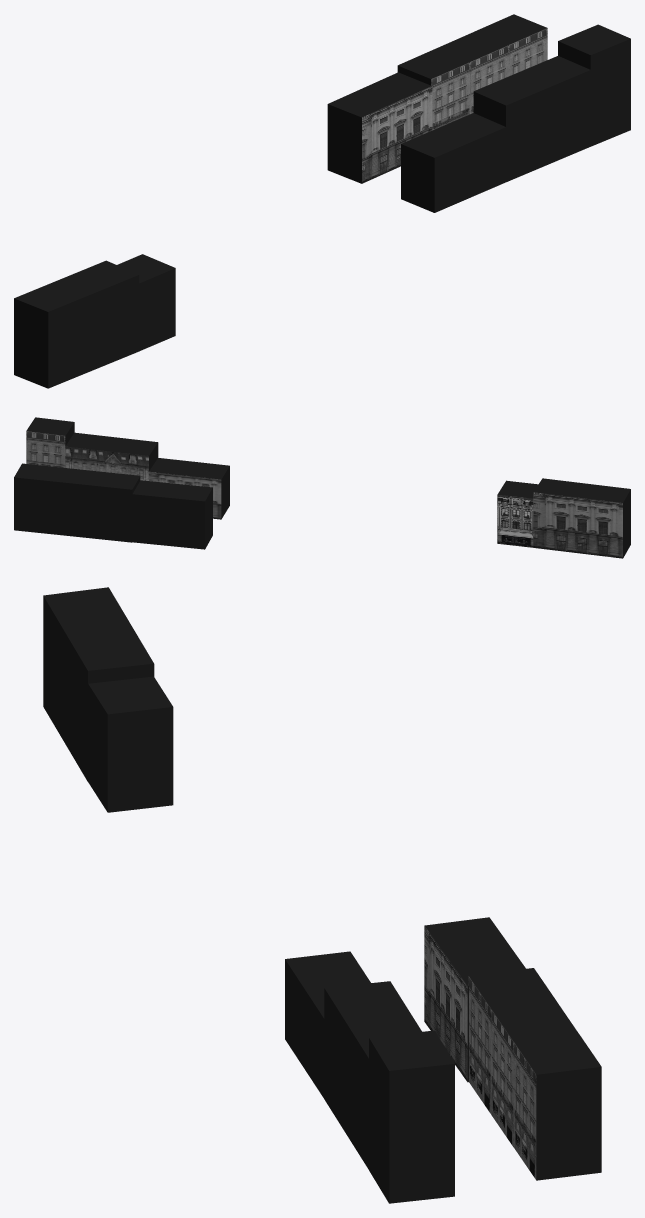
Rendered from Old_gsp_Placeholders.FBX.
3 renders of one model, top to bottom at view 1: azimuth 30°, elevation 25°; view 2: azimuth 150°, elevation 25°; view 3: azimuth 270°, elevation 25°, orthographic. The views are drawn at different scales.
Visible parts, largest first — view 1: I_OLD_placeholder004, G_OLD_placeholder008, I_OLD_placeholder016, H_OLD_placeholder006, I_OLD_placeholder018, I_OLD_placeholderfront009, F_OLD_placeholder002, H_OLD_placeholder_front004, H_OLD_placeholder008, H_OLD_placeholder_front005, H_OLD_placeholder_front006, H_OLD_placeholder010 (+1 smaller); view 2: I_OLD_placeholderfront002, I_OLD_placeholder018, H_OLD_placeholder008, H_OLD_placeholder012, H_OLD_placeholder010, G_OLD_placeholder_front011, I_OLD_placeholder004, F_OLD_placeholder_front001, I_OLD_placeholder016, G_OLD_placeholder008, H_OLD_placeholder_front003, I_OLD_placeholderfront008 (+2 smaller); view 3: H_OLD_placeholder006, I_OLD_placeholder004, F_OLD_placeholder002, H_OLD_placeholder012, G_OLD_placeholder008, I_OLD_placeholder016, I_OLD_placeholderfront009, I_OLD_placeholder018, H_OLD_placeholder_front004, H_OLD_placeholder_front005, H_OLD_placeholder_front006, H_OLD_placeholder008 (+1 smaller).
Part boxes in pixels (x1,y1,x2,y2): I_OLD_placeholder004: (14,260,139,388); G_OLD_placeholder008: (473,56,590,182); I_OLD_placeholder016: (401,113,505,212); H_OLD_placeholder006: (558,24,630,146); I_OLD_placeholder018: (327,72,431,183); I_OLD_placeholderfront009: (362,86,432,183); F_OLD_placeholder002: (117,254,175,351); H_OLD_placeholder_front004: (431,62,470,130); H_OLD_placeholder008: (397,48,469,85); H_OLD_placeholder_front005: (470,45,508,113); H_OLD_placeholder_front006: (509,28,547,76); H_OLD_placeholder010: (437,31,508,61); I_OLD_placeholderfront002: (533,492,622,558); I_OLD_placeholder018: (132,480,212,549); H_OLD_placeholder008: (92,471,140,542); H_OLD_placeholder012: (14,463,61,534); H_OLD_placeholder010: (53,467,100,538); G_OLD_placeholder_front011: (65,446,148,480); I_OLD_placeholder004: (533,478,630,557); F_OLD_placeholder_front001: (497,494,533,547); I_OLD_placeholder016: (149,458,229,519); G_OLD_placeholder008: (65,432,158,470); H_OLD_placeholder_front003: (26,431,65,467); I_OLD_placeholderfront008: (149,471,221,519); H_OLD_placeholder006: (369,1030,454,1203); I_OLD_placeholder004: (43,587,154,781); F_OLD_placeholder002: (88,676,173,812); H_OLD_placeholder012: (514,1034,601,1180); G_OLD_placeholder008: (324,981,421,1169); I_OLD_placeholder016: (285,951,370,1098); I_OLD_placeholderfront009: (424,926,467,1081); I_OLD_placeholder018: (424,917,525,1082); H_OLD_placeholder_front004: (468,976,491,1114); H_OLD_placeholder_front005: (491,1009,513,1147); H_OLD_placeholder_front006: (514,1042,536,1179); H_OLD_placeholder008: (469,968,556,1008).
Bounding box in the file's own units: 17596 × 2156 × 8220.
5 materials, 4 textured.
